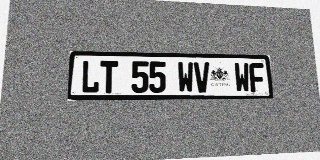5: (131, 61, 149, 93), (149, 61, 166, 93)
F: (249, 63, 265, 92)
L: (81, 60, 100, 93)
T: (100, 61, 118, 93)
V: (194, 62, 210, 93)
W: (177, 62, 194, 93), (234, 63, 250, 92)
